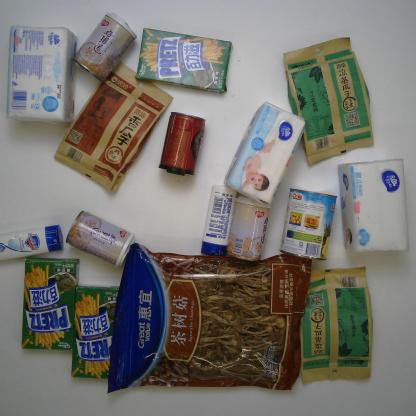Canned Food: (72, 11, 138, 82), (279, 186, 338, 261), (64, 208, 137, 268), (158, 110, 206, 176), (226, 195, 272, 262)
Dessert: (133, 26, 234, 94), (21, 257, 80, 351), (70, 284, 122, 380)
Dried Food: (106, 242, 312, 394), (53, 60, 174, 192), (282, 36, 374, 167), (297, 265, 375, 384)
Personal Hygiene: (200, 184, 238, 257), (0, 224, 64, 262)
Tissue: (222, 101, 306, 207), (5, 25, 79, 124), (337, 158, 410, 254)
